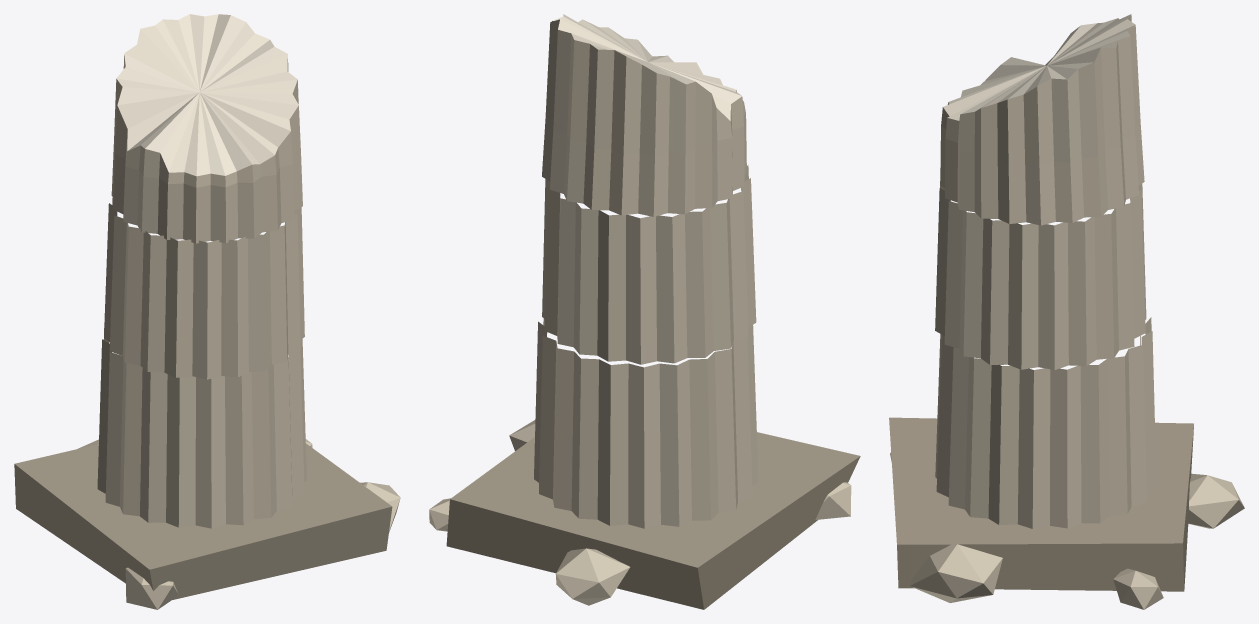
Rendered from broken-column.glb.
3 views of the same model, side by side, from view 1: azimuth 30°, elevation 25°; view 2: azimuth 150°, elevation 25°; view 3: azimuth 270°, elevation 25° (orthographic). The views are drawn at different scales.
Parts seen in each view (by area): view 1: broken-column; view 2: broken-column; view 3: broken-column.
Part boxes in pixels (x1,y1,x2,y2): broken-column: (14,14,400,609); broken-column: (429,14,860,609); broken-column: (889,14,1244,609).
Size of the model in its own units: 2.3 by 3.72 by 2.3.
